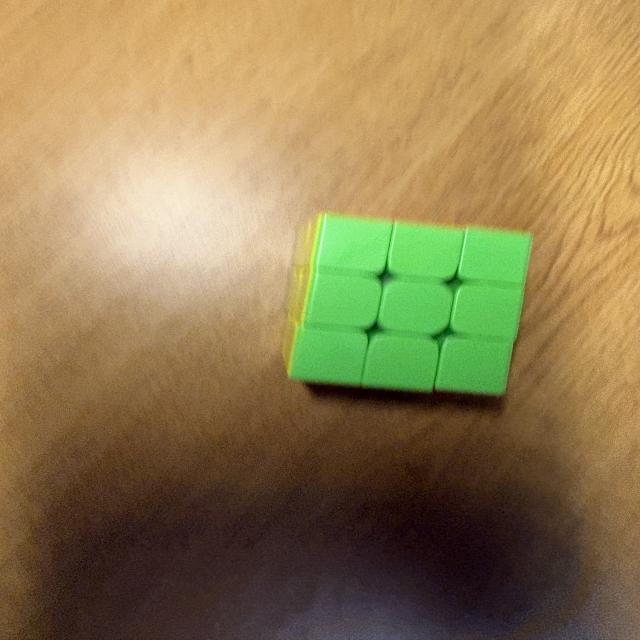Rubiks Cube: (277, 212, 532, 398)
